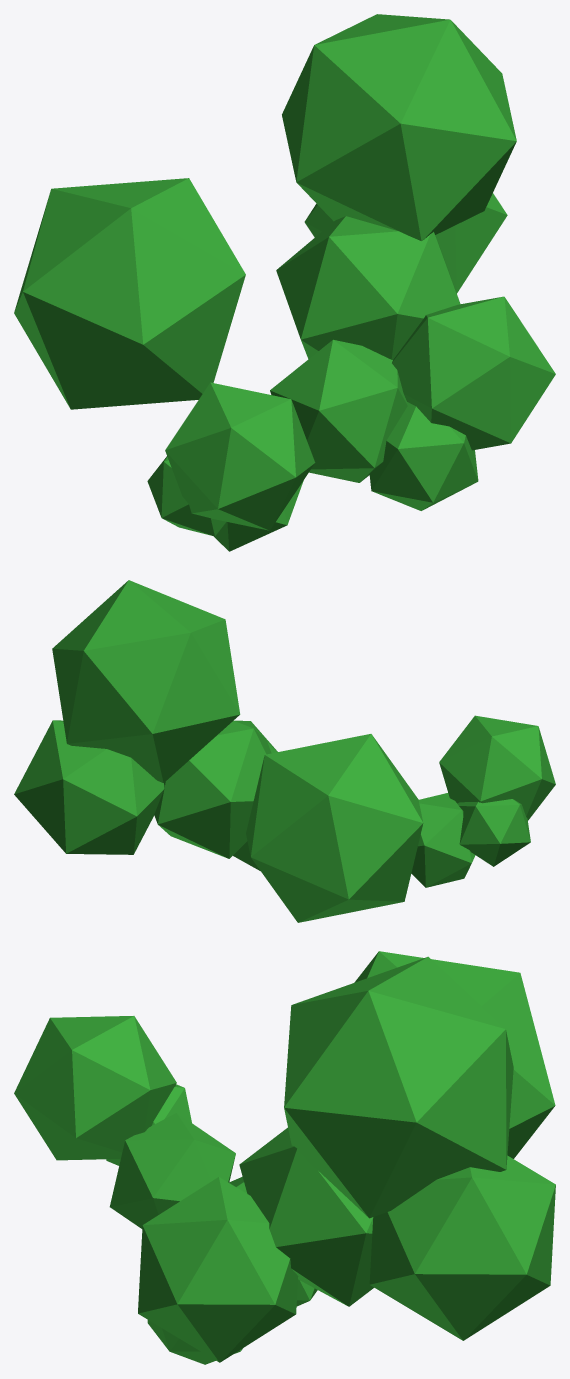
File: oak1.glb
The picture shows the model from 3 angles, top to bottom: view 1: azimuth 30°, elevation 25°; view 2: azimuth 150°, elevation 25°; view 3: azimuth 270°, elevation 25°; orthographic projection. The views are drawn at different scales.
Visible parts, largest first — view 1: Icosphere.006, Icosphere.005, Icosphere.004, Icosphere.002, Icosphere.007, Icosphere.001, Icosphere, Icosphere.003, Icosphere.009, Icosphere.008; view 2: Icosphere.005, Icosphere.006, Icosphere.003, Icosphere.004, Icosphere.007, Icosphere.008, Icosphere.009; view 3: Icosphere.005, Icosphere.003, Icosphere.002, Icosphere.007, Icosphere.004, Icosphere.008, Icosphere.006, Icosphere, Icosphere.009, Icosphere.001.
Part boxes in pixels (x1,y1,x2,y2): Icosphere.006: (14,178,245,409); Icosphere.005: (282,14,516,241); Icosphere.004: (276,216,460,359); Icosphere.002: (392,296,555,450); Icosphere.007: (165,382,315,530); Icosphere.001: (270,339,407,482); Icosphere: (369,402,478,510); Icosphere.003: (304,193,507,293); Icosphere.009: (147,456,226,536); Icosphere.008: (214,480,303,551); Icosphere.005: (52,580,240,782); Icosphere.006: (246,734,423,922); Icosphere.003: (14,720,164,854); Icosphere.004: (154,720,271,858); Icosphere.007: (439,715,555,820); Icosphere.008: (411,793,475,887); Icosphere.009: (457,799,530,866); Icosphere.005: (284,956,513,1218); Icosphere.003: (369,1155,555,1340); Icosphere.002: (138,1177,298,1362); Icosphere.007: (14,1016,176,1160); Icosphere.004: (239,1127,373,1306); Icosphere.008: (109,1113,235,1228); Icosphere.006: (354,951,555,1158); Icosphere: (147,1320,242,1364); Icosphere.009: (106,1084,191,1165); Icosphere.001: (229,1176,317,1306).
Size of the model in its own units: 8.72 by 7.01 by 8.02.
